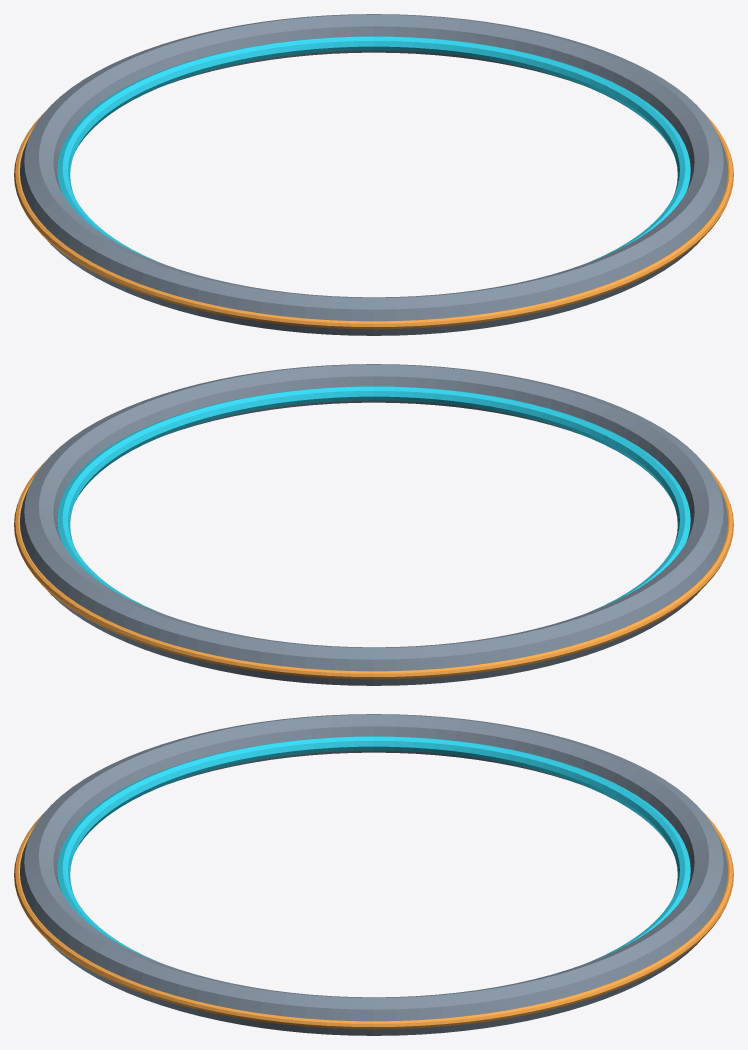
File: 09_PS_Studio_CeilingHaloMain.fbx
3 renders of one model, top to bottom at view 1: azimuth 30°, elevation 25°; view 2: azimuth 150°, elevation 25°; view 3: azimuth 270°, elevation 25°, orthographic.
Visible parts, largest first — view 1: PS_Studio_CeilingHaloMain_Piece_0000, PS_Studio_CeilingHaloMain_Piece_0001, PS_Studio_CeilingHaloMain_Piece_0002; view 2: PS_Studio_CeilingHaloMain_Piece_0000, PS_Studio_CeilingHaloMain_Piece_0001, PS_Studio_CeilingHaloMain_Piece_0002; view 3: PS_Studio_CeilingHaloMain_Piece_0000, PS_Studio_CeilingHaloMain_Piece_0001, PS_Studio_CeilingHaloMain_Piece_0002.
Boxes of the visible parts, left/top/right/bottom form: PS_Studio_CeilingHaloMain_Piece_0000: left=20, top=14, right=727, bottom=335; PS_Studio_CeilingHaloMain_Piece_0001: left=57, top=36, right=690, bottom=260; PS_Studio_CeilingHaloMain_Piece_0002: left=14, top=112, right=733, bottom=329; PS_Studio_CeilingHaloMain_Piece_0000: left=20, top=364, right=727, bottom=685; PS_Studio_CeilingHaloMain_Piece_0001: left=57, top=386, right=690, bottom=610; PS_Studio_CeilingHaloMain_Piece_0002: left=14, top=462, right=733, bottom=679; PS_Studio_CeilingHaloMain_Piece_0000: left=20, top=714, right=727, bottom=1035; PS_Studio_CeilingHaloMain_Piece_0001: left=57, top=736, right=690, bottom=960; PS_Studio_CeilingHaloMain_Piece_0002: left=14, top=812, right=733, bottom=1029.
Size of the model in its own units: 666 by 38 by 666.
